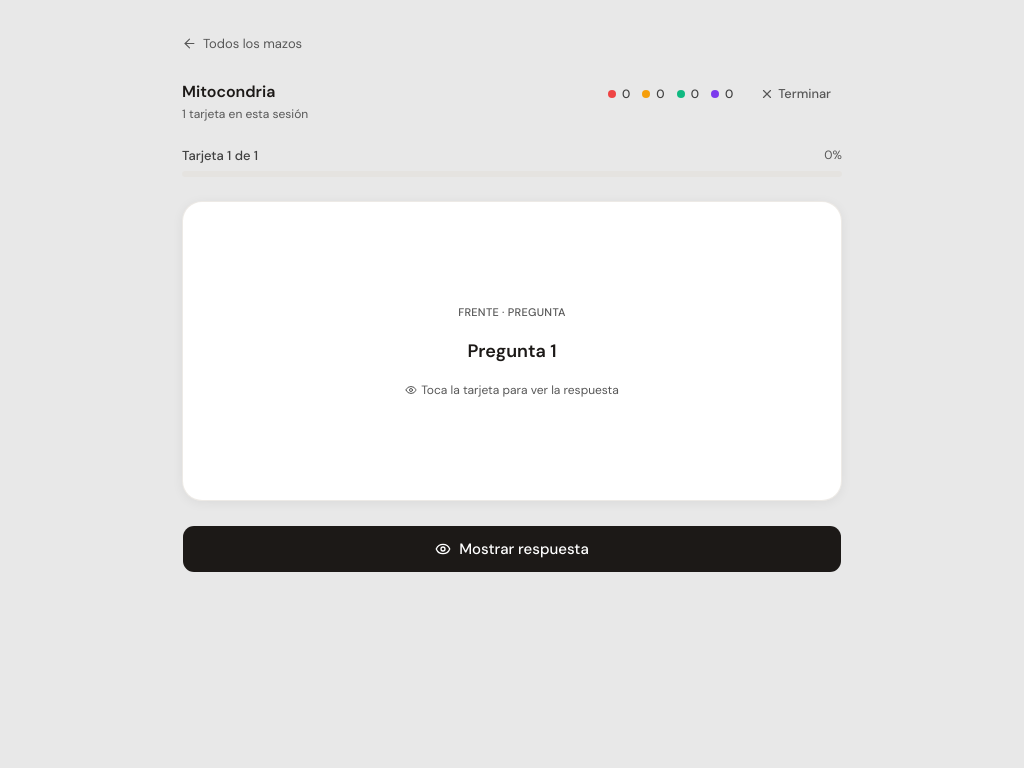
Test: DeckReview, up to date and practice mode › asks for the due cards again after a graded session, so the deck says it is up to date
This screenshot has width=1024, height=768.
Click the button "Mostrar respuesta" at x=512, y=549, box [182,525,842,573]
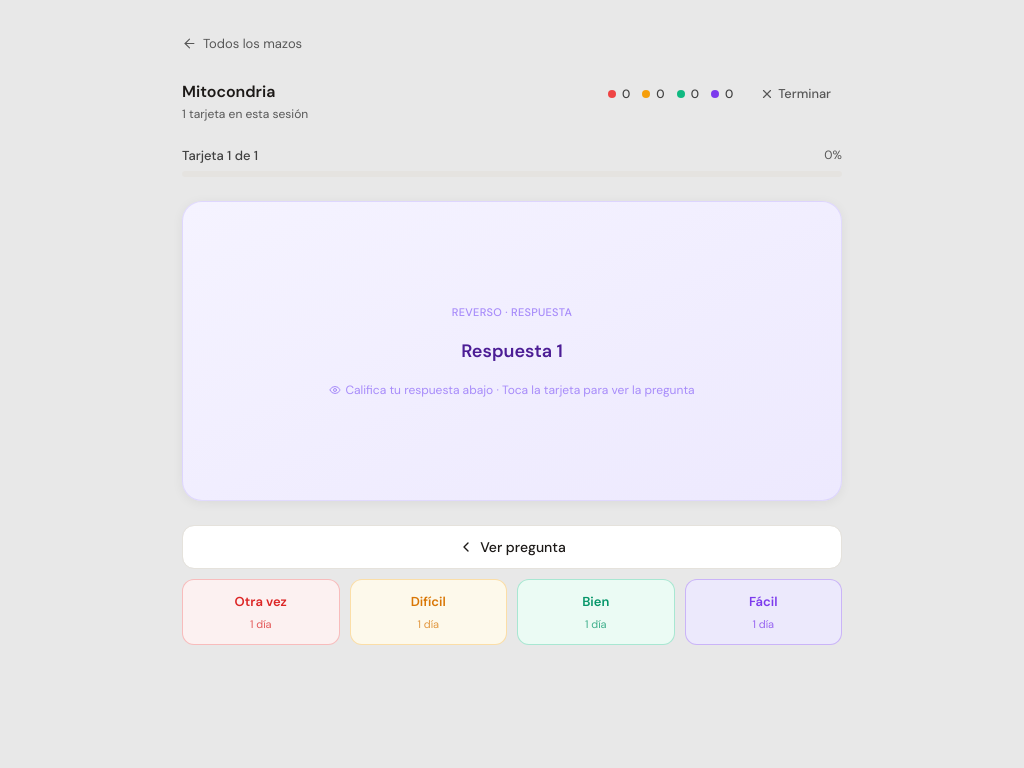
Click the button "Bien 1 día" at x=596, y=612, box [517,579,674,645]
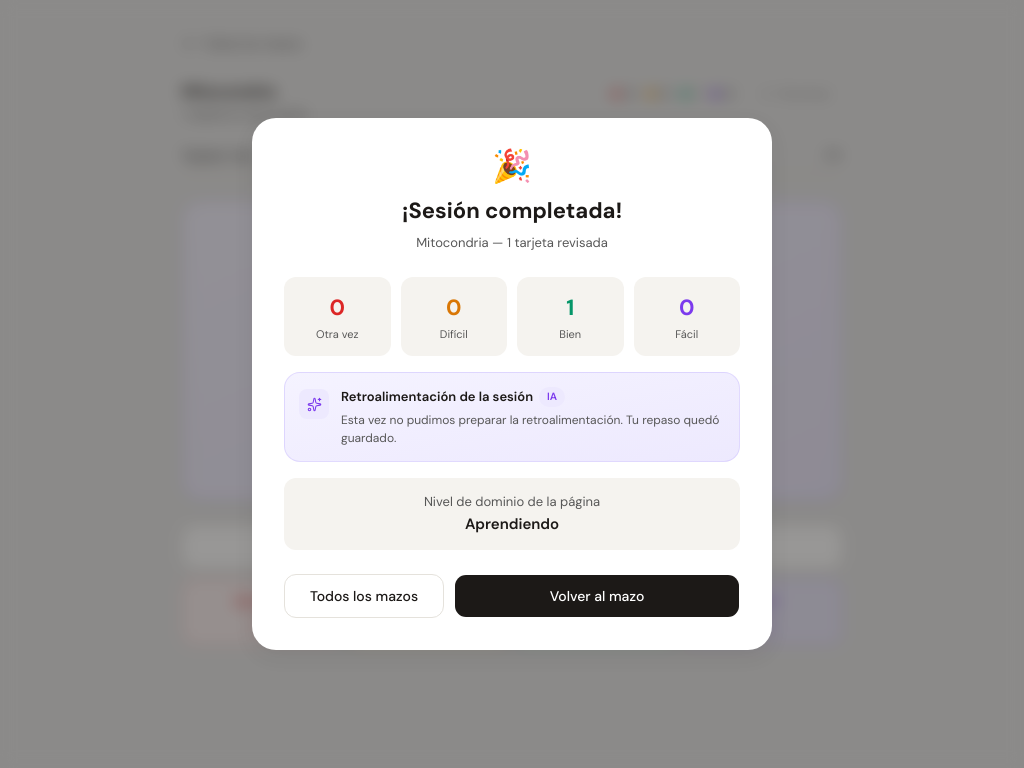
Click the button "Volver al mazo" at x=597, y=596, box [454,574,740,618]
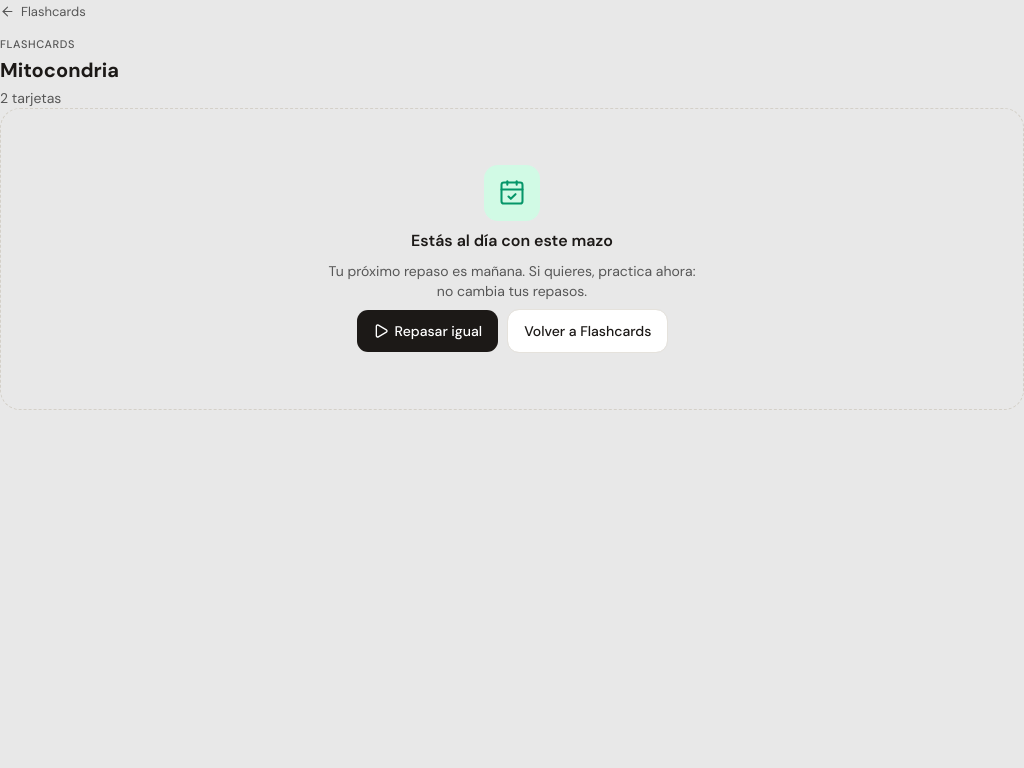
Check: the heading "Estás al día con este mazo" is shown, box [411,229,613,253]
